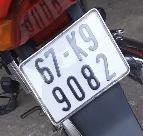0: (62, 71, 89, 104)
2: (92, 49, 119, 84)
6: (30, 53, 57, 87)
7: (42, 44, 68, 80)
8: (77, 60, 104, 94)
9: (72, 18, 104, 57), (47, 83, 74, 114)
K: (62, 28, 91, 64)
